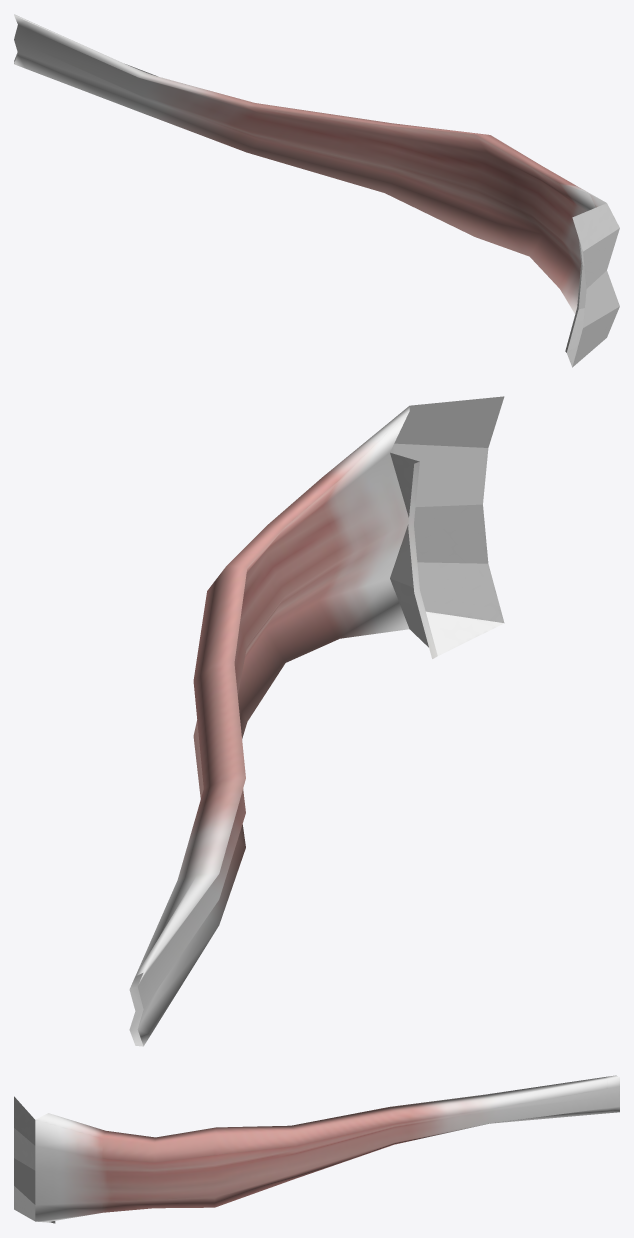
Rendered from Músculo Recto Lateral.FBX.
3 renders of one model, top to bottom at view 1: azimuth 30°, elevation 25°; view 2: azimuth 150°, elevation 25°; view 3: azimuth 270°, elevation 25°, orthographic. The views are drawn at different scales.
Visible parts, largest first — view 1: Sclera Left; view 2: Sclera Left; view 3: Sclera Left.
Boxes of the visible parts, x1=… form: Sclera Left: x1=14, y1=14, x2=619, y2=367; Sclera Left: x1=129, y1=396, x2=504, y2=1046; Sclera Left: x1=14, y1=1075, x2=619, y2=1223.
Bounding box in the file's own units: 0.4145 × 0.2659 × 1.22.
Materials: 1 (1 with a texture image).
